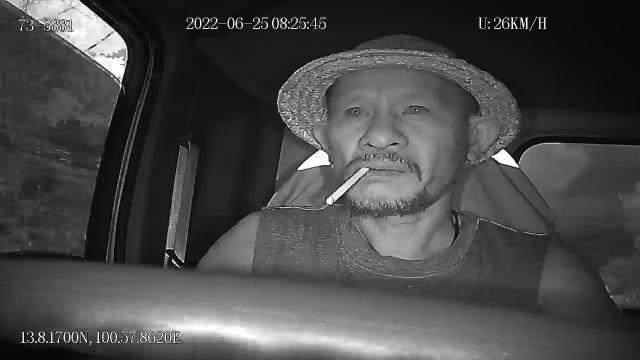SafeDriving: (395, 94, 436, 120), (338, 95, 374, 123)
Smoking: (322, 166, 374, 208)
